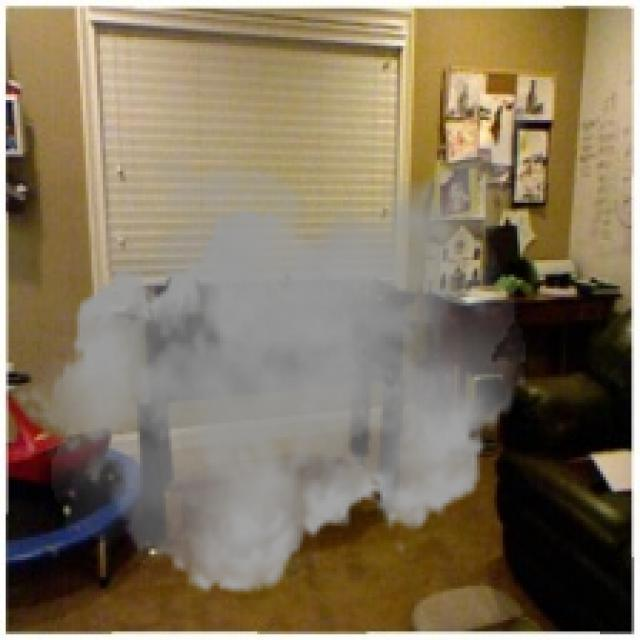smoke: (14, 71, 546, 608)
